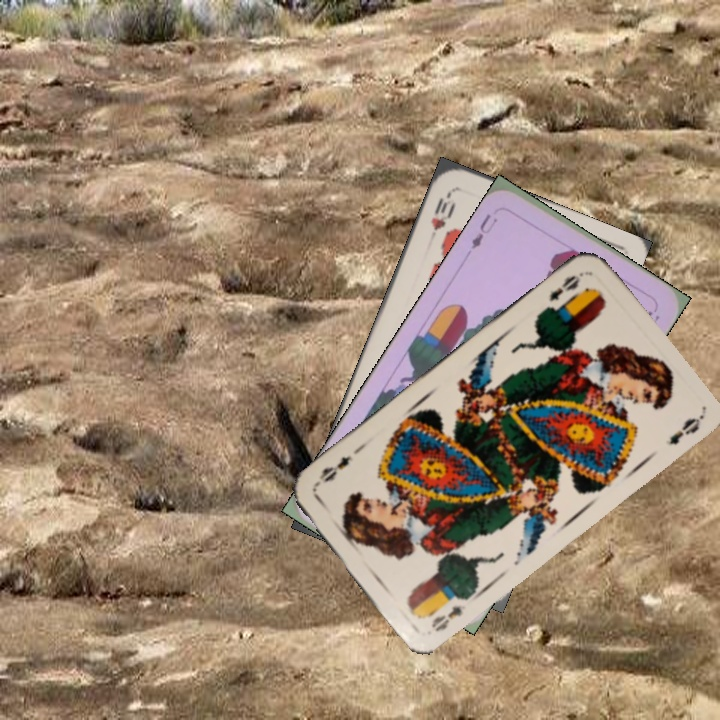EO: (544, 267, 587, 304), (427, 600, 469, 635)
EU: (464, 210, 500, 256)
H10: (426, 187, 459, 233)
